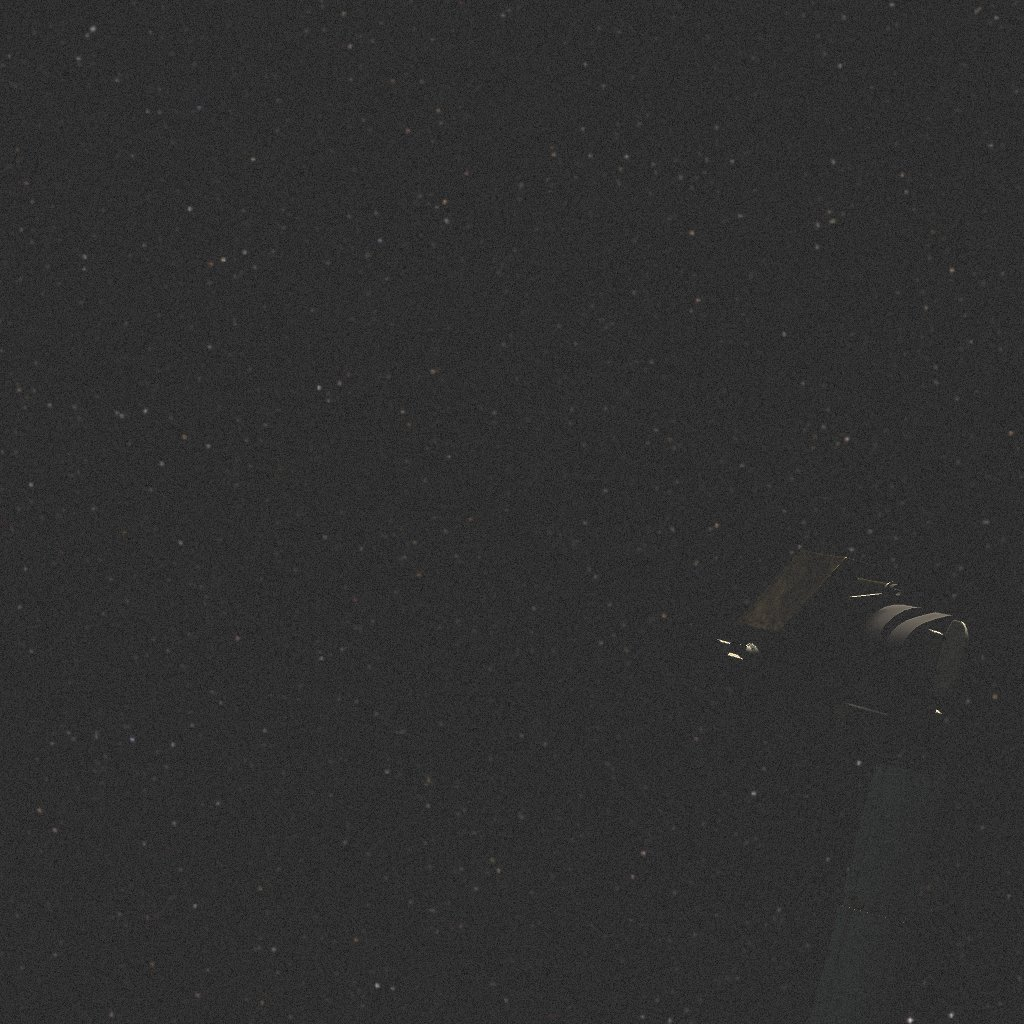earth_observation_sat_1: (714, 550, 972, 1024)
